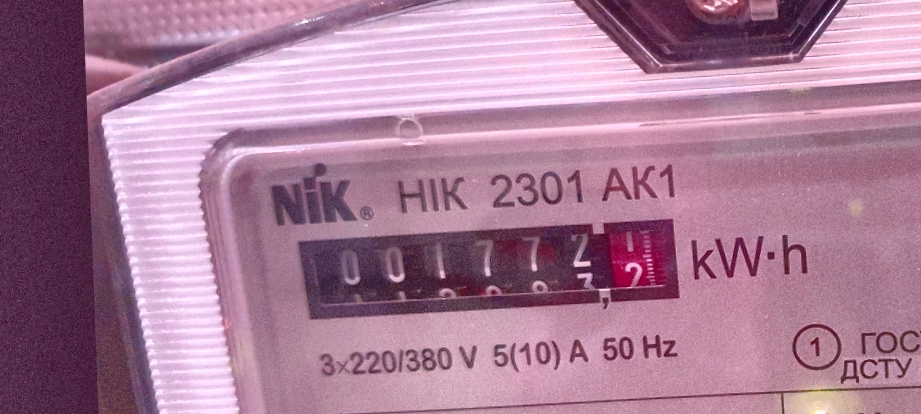0: (334, 245, 363, 286), (381, 243, 406, 283)
1: (430, 240, 448, 280), (621, 229, 635, 255)
2: (568, 232, 592, 269), (619, 259, 644, 288)
3: (574, 270, 596, 292)
7: (473, 237, 496, 279), (519, 234, 542, 273)
screen: (285, 207, 696, 331)
